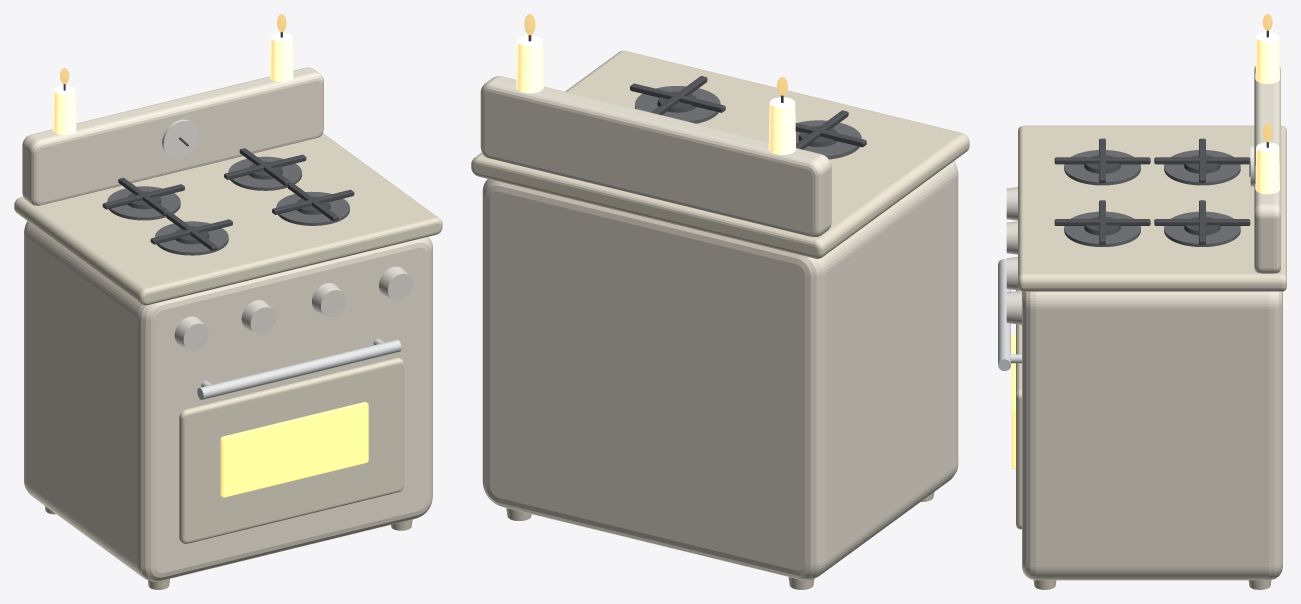
Rendered from stove.glb.
3 views of the same model, side by side, from view 1: azimuth 30°, elevation 25°; view 2: azimuth 150°, elevation 25°; view 3: azimuth 270°, elevation 25° (orthographic). The views are drawn at different scales.
Parts seen in each view (by area): view 1: stove; view 2: stove; view 3: stove.
Boxes of the visible parts, x1,y1,x2,y2 form: stove: [14, 14, 442, 589]; stove: [471, 14, 969, 589]; stove: [998, 14, 1286, 589].
Bounding box in the file's own units: 0.95 × 1.31 × 0.752.
